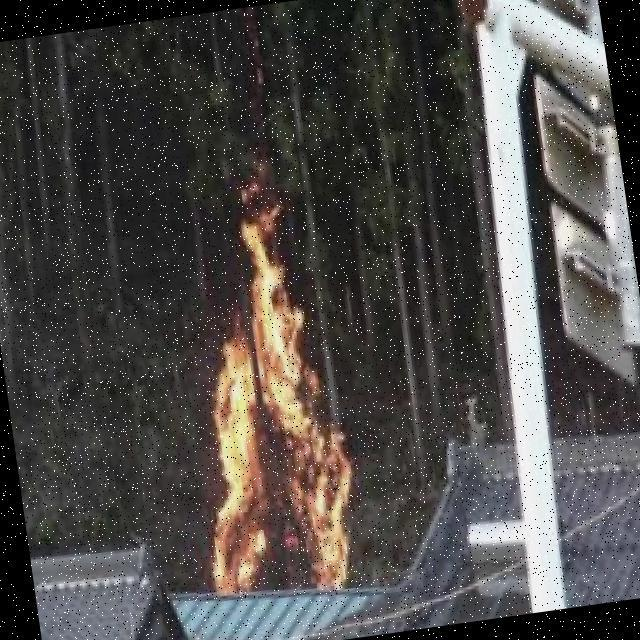Fire: (159, 200, 365, 607)
